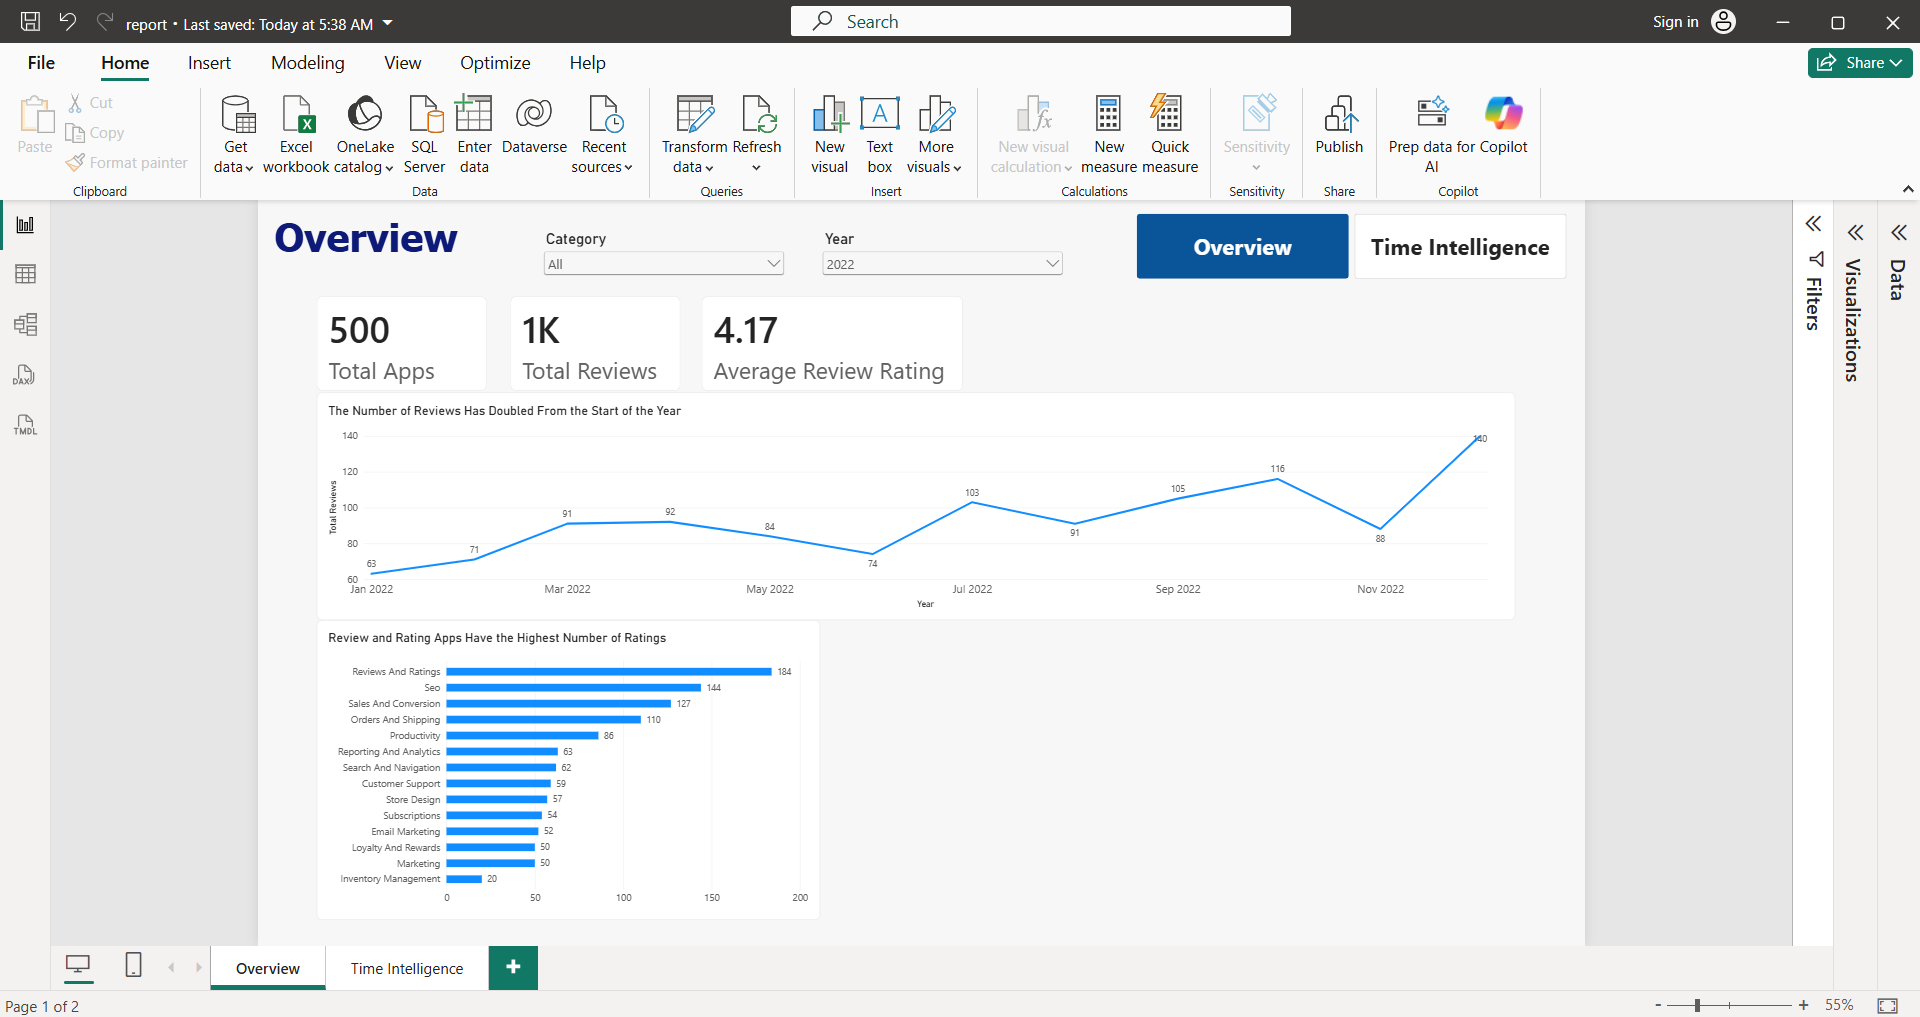

The page's visual inventory and layout, read from the dashboard file:
{"tool":"powerbi","page":{"name":"Overview","canvas":[1920,1080],"ordinal":0},"visuals":[{"type":"textbox","box":[22.6,20.6,277.9,94.7],"z":0},{"type":"cardVisual","fields":{"Data":["apps.Total Apps"]},"box":[84.4,140,247,137.9],"z":1000},{"type":"cardVisual","fields":{"Data":["reviews.Total Reviews"]},"box":[366.4,140,247,137.9],"z":2000},{"type":"cardVisual","fields":{"Data":["reviews.Average Review"]},"box":[642.2,140,378.7,137.9],"z":3000},{"type":"slicer","fields":{"Values":["apps.category_name"]},"box":[409.6,43.2,358.1,78.2],"z":5000},{"type":"lineChart","title":"The Number of Reviews Has Doubled From the Start of the Year","fields":{"Category":["dim_date.Date.Variation.Date Hierarchy.Year","dim_date.Date.Variation.Date Hierarchy.Month"],"Y":["reviews.Total Reviews"]},"box":[84.4,277.9,1735.2,329.3],"z":6000},{"type":"pageNavigator","box":[1272,20.6,623.7,94.7],"z":8000},{"type":"clusteredBarChart","title":"Review and Rating Apps Have the Highest Number of Ratings","fields":{"Category":["apps.category_name"],"Y":["reviews.Total Reviews"]},"box":[84.4,607.2,728.6,434.3],"z":9001},{"type":"slicer","fields":{"Values":["dim_date.Year"]},"box":[813,43.2,358.1,78.2],"z":9002}]}

Visuals, with their boxes on the page's 1920x1080 design canvas (x1, y1, x2, y2). These are canvas units, not pixel positions in the 1920x1017 screenshot, which may show the page scaled, cropped or inside an application window:
textbox: [x1=23, y1=21, x2=300, y2=115]
cardVisual - apps.Total Apps: [x1=84, y1=140, x2=331, y2=278]
cardVisual - reviews.Total Reviews: [x1=366, y1=140, x2=613, y2=278]
cardVisual - reviews.Average Review: [x1=642, y1=140, x2=1021, y2=278]
slicer - apps.category_name: [x1=410, y1=43, x2=768, y2=121]
"The Number of Reviews Has Doubled From the Start of the Year" lineChart: [x1=84, y1=278, x2=1820, y2=607]
pageNavigator: [x1=1272, y1=21, x2=1896, y2=115]
"Review and Rating Apps Have the Highest Number of Ratings" clusteredBarChart: [x1=84, y1=607, x2=813, y2=1042]
slicer - dim_date.Year: [x1=813, y1=43, x2=1171, y2=121]
